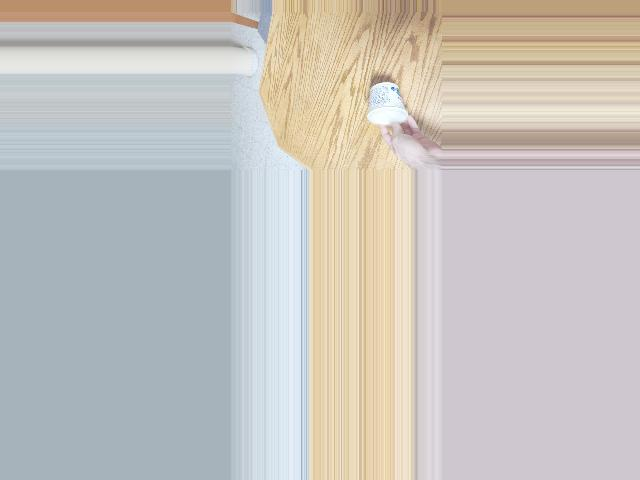cotage: (363, 87, 409, 131)
